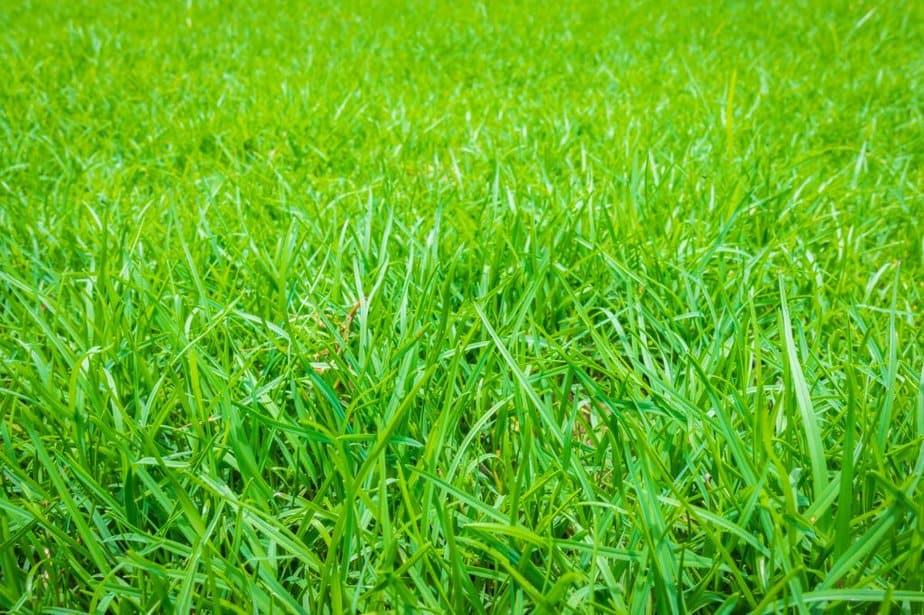grass: (1, 3, 924, 615)
